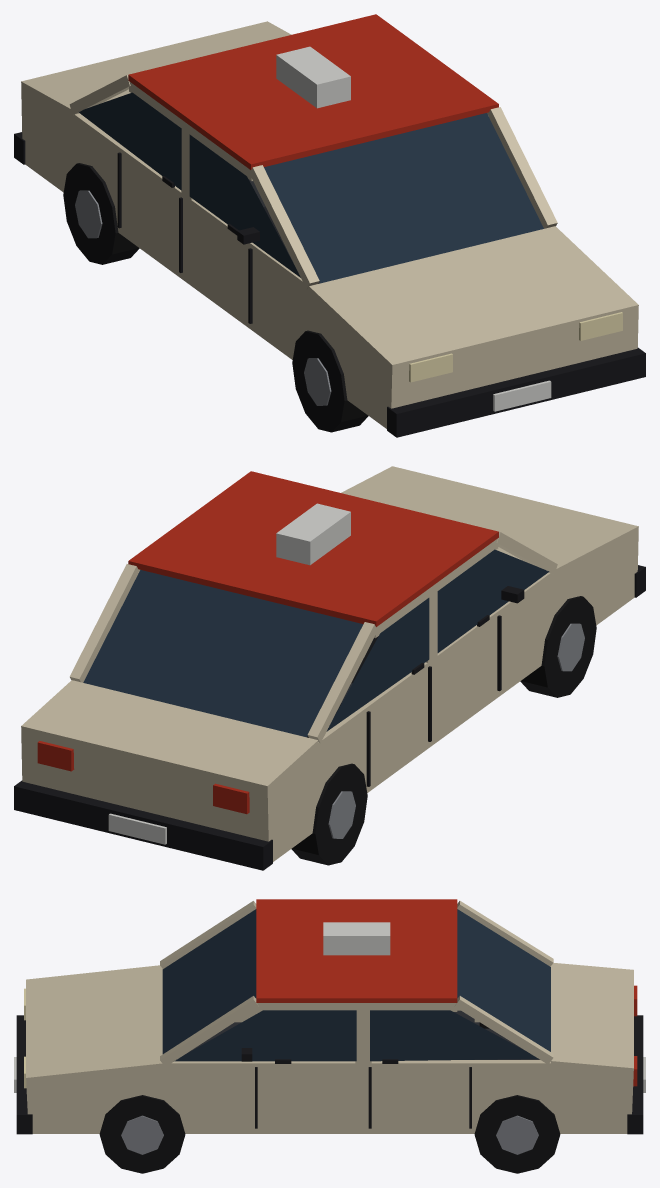
File: veh_taxi-dubai.glb
The picture shows the model from 3 angles, top to bottom: view 1: azimuth 30°, elevation 25°; view 2: azimuth 150°, elevation 25°; view 3: azimuth 270°, elevation 25°; orthographic projection. The views are drawn at different scales.
Visible parts, largest first — view 1: body, wheels; view 2: body, wheels; view 3: body, wheels.
Boxes of the visible parts, x1,y1,x2,y2 form: body: [14, 14, 645, 437]; wheels: [63, 163, 368, 432]; body: [14, 466, 645, 870]; wheels: [291, 596, 596, 865]; body: [14, 899, 645, 1134]; wheels: [99, 1022, 560, 1173].
Size of the model in its own units: 1.98 by 1.6 by 4.72.
